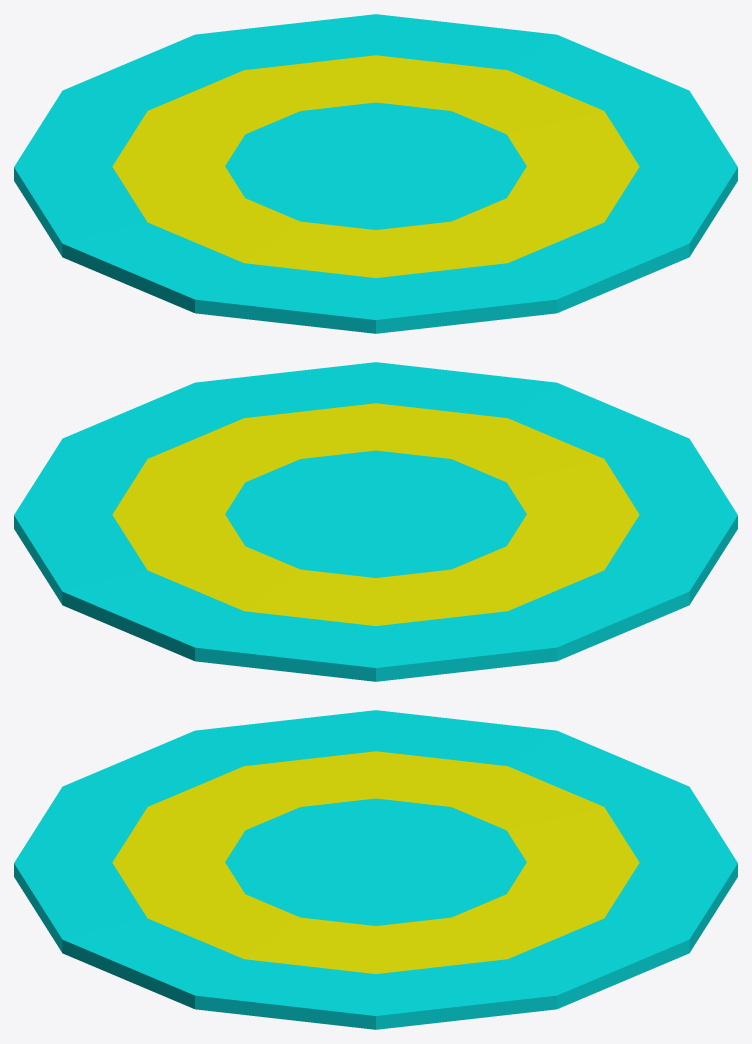
Rendered from Carpet.fbx.
3 views of the same model, one above another, from view 1: azimuth 30°, elevation 25°; view 2: azimuth 150°, elevation 25°; view 3: azimuth 270°, elevation 25° (orthographic).
Visible parts, largest first — view 1: pCylinder13; view 2: pCylinder13; view 3: pCylinder13.
Part boxes in pixels (x1,y1,x2,y2): pCylinder13: [14, 14, 737, 333]; pCylinder13: [14, 362, 737, 681]; pCylinder13: [14, 710, 737, 1029].
Bounding box in the file's own units: 90 × 2 × 90.
